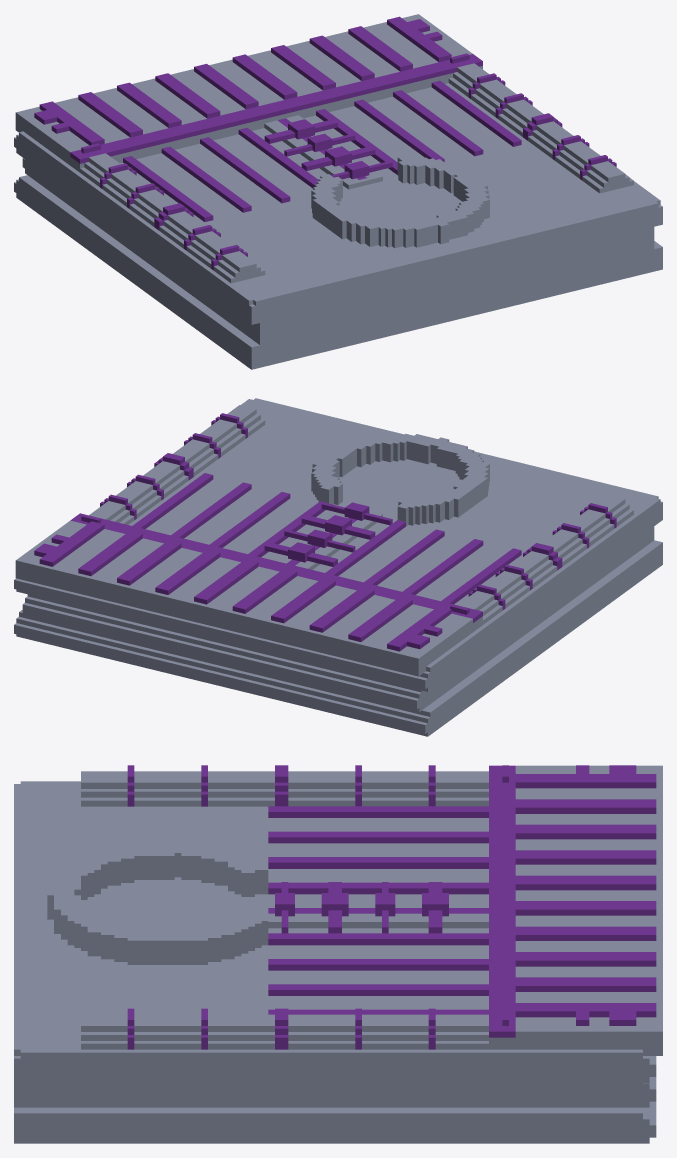
The model's file is gambeson_parabolan_thinsleeved.glb.
3 views of the same model, one above another, from view 1: azimuth 30°, elevation 25°; view 2: azimuth 150°, elevation 25°; view 3: azimuth 270°, elevation 25° (orthographic). The views are drawn at different scales.
Parts seen in each view (by area): view 1: gambeson_parabolan_thinsleeved:compound; view 2: gambeson_parabolan_thinsleeved:compound; view 3: gambeson_parabolan_thinsleeved:compound.
Boxes of the visible parts, x1,y1,x2,y2 form: gambeson_parabolan_thinsleeved:compound: (14,14,662,369); gambeson_parabolan_thinsleeved:compound: (14,398,662,736); gambeson_parabolan_thinsleeved:compound: (14,765,662,1143).
Size of the model in its own units: 0.384 by 0.076 by 0.388.
